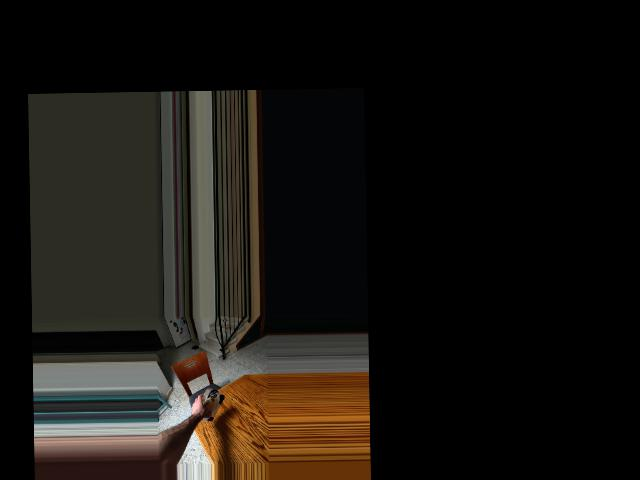cheese: (191, 387, 224, 424)
